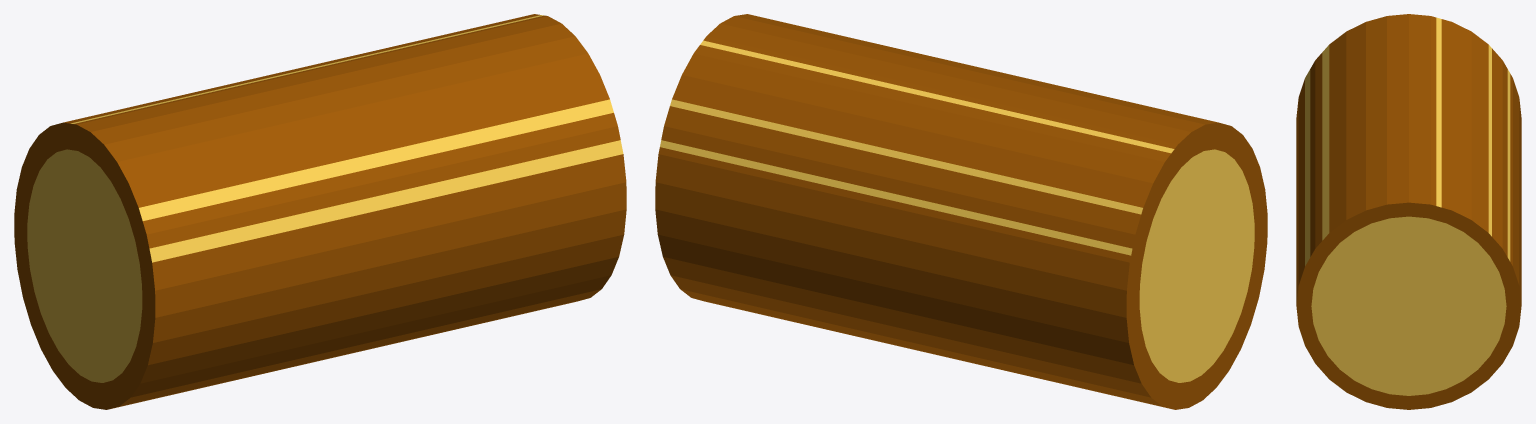
Rendered from log.glb.
3 views of the same model, side by side, from view 1: azimuth 30°, elevation 25°; view 2: azimuth 150°, elevation 25°; view 3: azimuth 270°, elevation 25° (orthographic). The views are drawn at different scales.
Visible parts, largest first — view 1: Cylinder; view 2: Cylinder; view 3: Cylinder.
Part boxes in pixels (left/top/right/bottom): Cylinder: left=14, top=14, right=626, bottom=409; Cylinder: left=655, top=14, right=1267, bottom=409; Cylinder: left=1296, top=14, right=1521, bottom=409.
Size of the model in its own units: 1.99 by 1.07 by 1.01.
